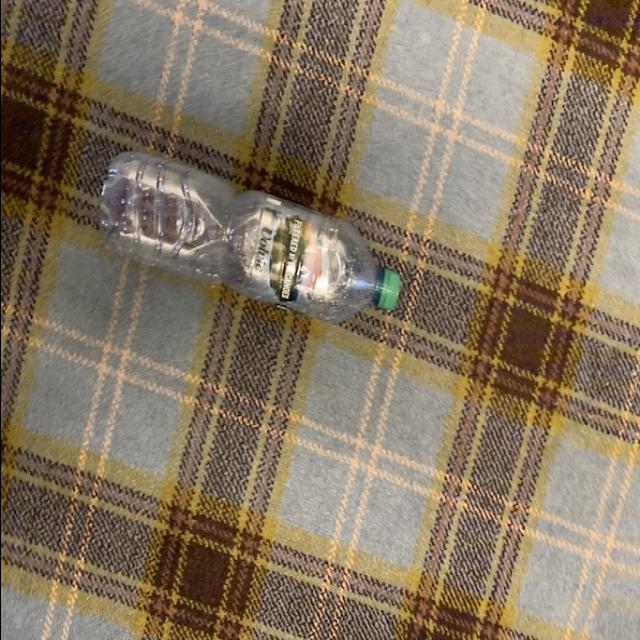litter: (92, 155, 402, 327)
